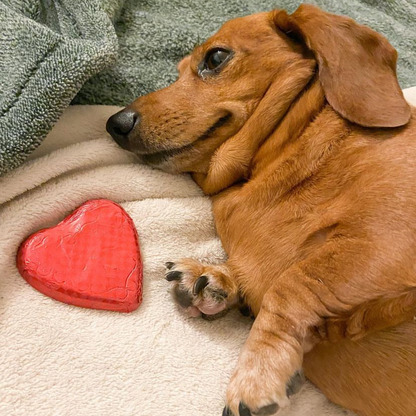dachshund: (121, 7, 404, 403)
